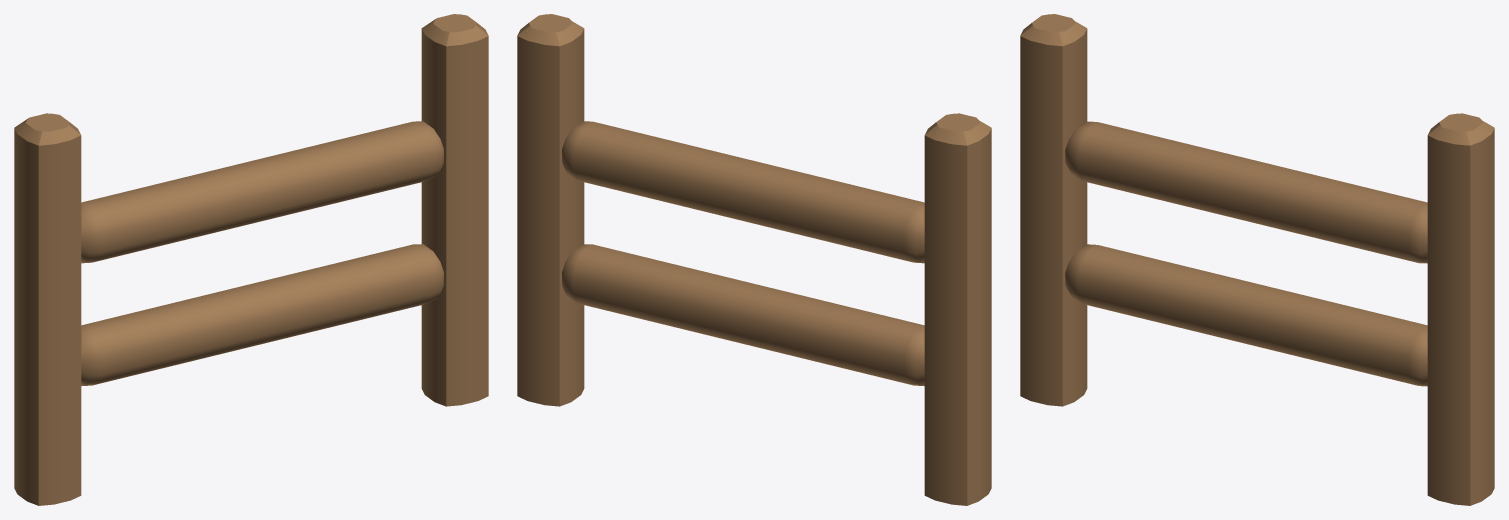
Rendered from fence_light.fbx.
3 views of the same model, side by side, from view 1: azimuth 30°, elevation 25°; view 2: azimuth 150°, elevation 25°; view 3: azimuth 330°, elevation 25° (orthographic).
Parts seen in each view (by area): view 1: fence_light; view 2: fence_light; view 3: fence_light.
Part boxes in pixels (x1,y1,x2,y2): fence_light: (14, 14, 488, 505); fence_light: (517, 14, 991, 505); fence_light: (1020, 14, 1494, 505).
Bounding box in the file's own units: 11.7 × 9.01 × 1.3.
